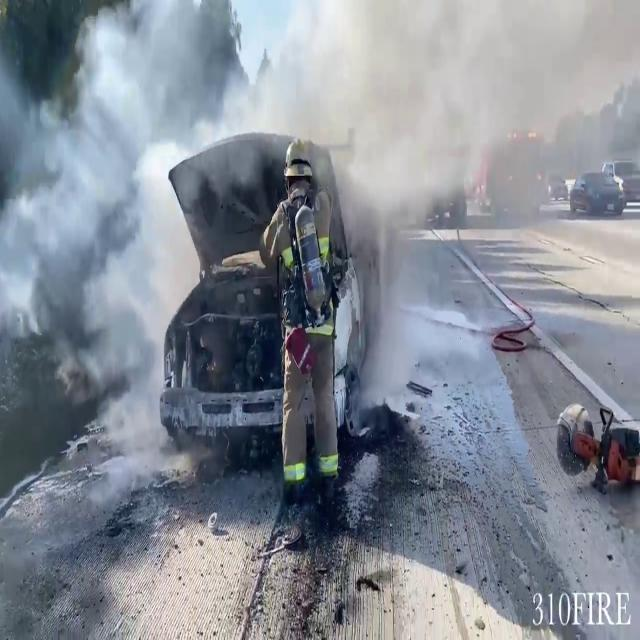Smoke: (0, 1, 225, 427), (250, 0, 640, 224)
